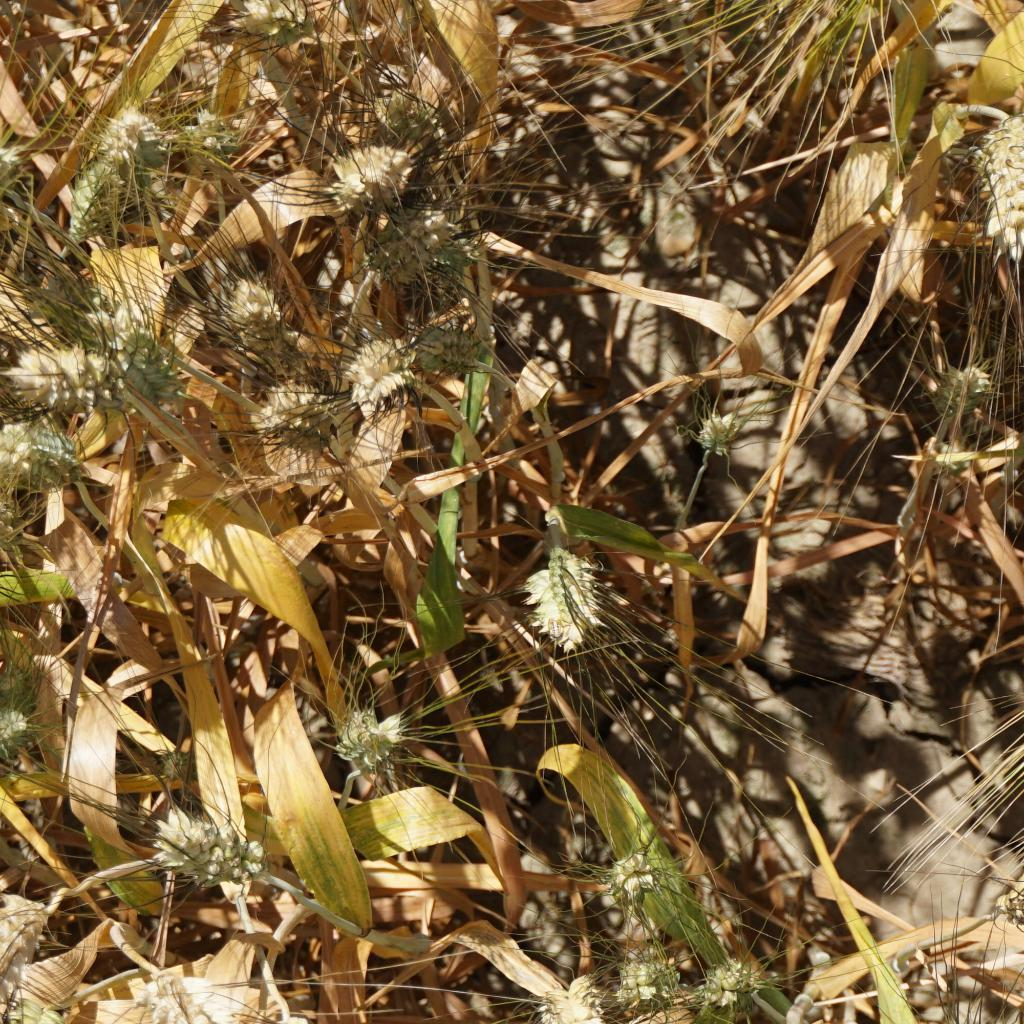0-0: (208, 271, 309, 373), (159, 806, 276, 889), (967, 107, 1024, 256), (527, 551, 603, 646), (0, 407, 90, 484), (108, 304, 174, 399), (140, 973, 260, 1024), (8, 342, 99, 407), (369, 200, 443, 276), (329, 139, 409, 207), (328, 704, 399, 778), (0, 897, 39, 1024), (61, 154, 122, 233), (27, 271, 94, 338), (259, 377, 332, 433), (345, 331, 403, 399), (372, 84, 449, 135), (406, 316, 480, 369), (699, 948, 759, 1011), (596, 845, 662, 899), (105, 102, 162, 163), (693, 404, 750, 460), (186, 112, 243, 163), (539, 983, 609, 1024), (248, 0, 317, 40), (936, 363, 989, 415), (0, 124, 31, 211), (621, 960, 675, 1006), (987, 867, 1024, 926), (0, 662, 36, 713), (0, 485, 23, 561), (0, 694, 25, 758), (0, 1000, 65, 1024)
